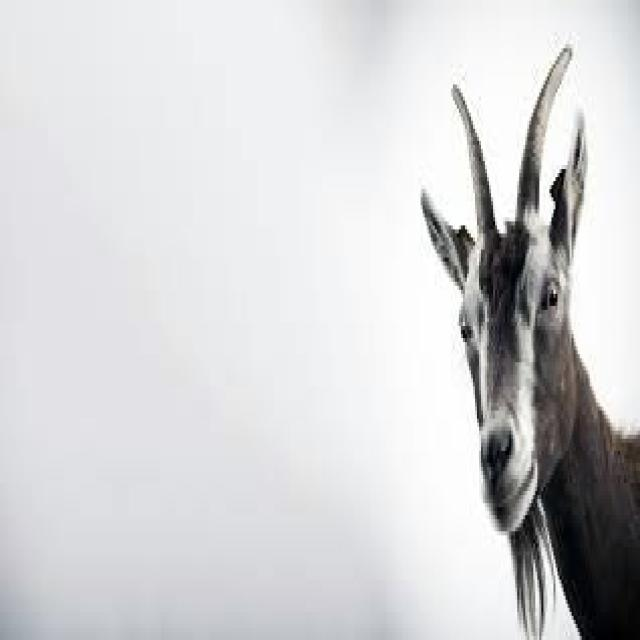goat: (421, 48, 638, 636)
